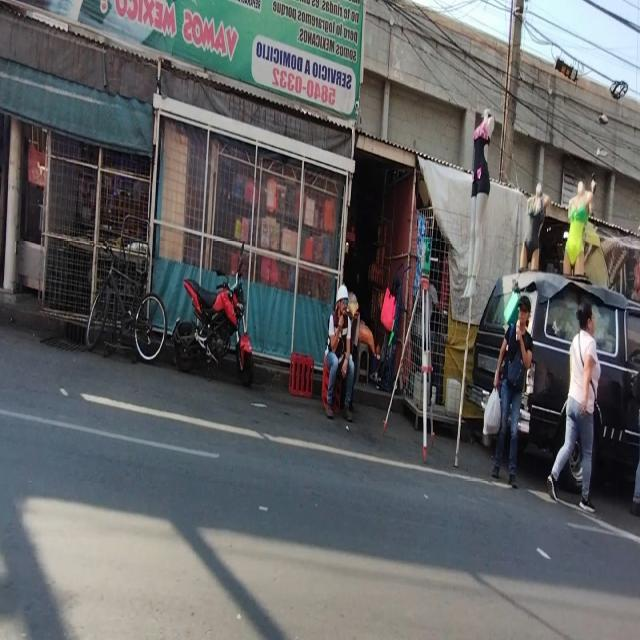adult: (548, 302, 600, 513), (493, 295, 532, 487), (326, 285, 355, 418)
